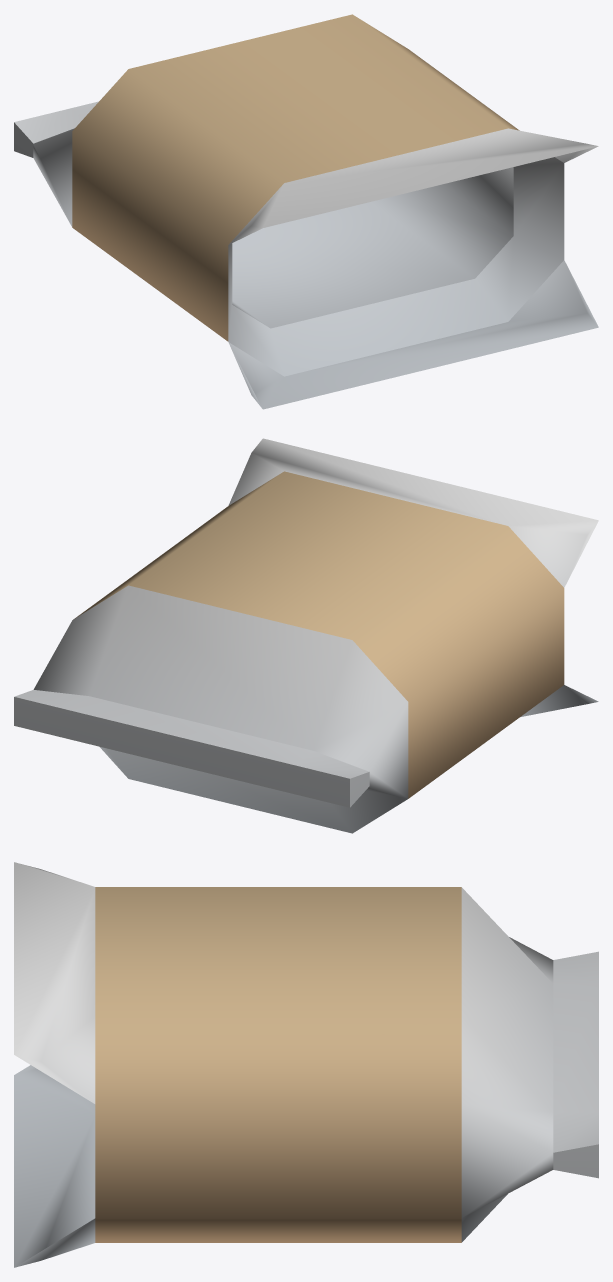
Rendered from snacks-bag-open.glb.
The picture shows the model from 3 angles, top to bottom: view 1: azimuth 30°, elevation 25°; view 2: azimuth 150°, elevation 25°; view 3: azimuth 270°, elevation 25°; orthographic projection. The views are drawn at different scales.
Visible parts, largest first — view 1: snacks-bag-open; view 2: snacks-bag-open; view 3: snacks-bag-open.
Boxes of the visible parts, box(x1,y1,x2,y2) form: snacks-bag-open: box(14, 14, 598, 409); snacks-bag-open: box(14, 438, 598, 833); snacks-bag-open: box(14, 862, 598, 1267).
Bounding box in the file's own units: 0.249 × 0.137 × 0.3195.
